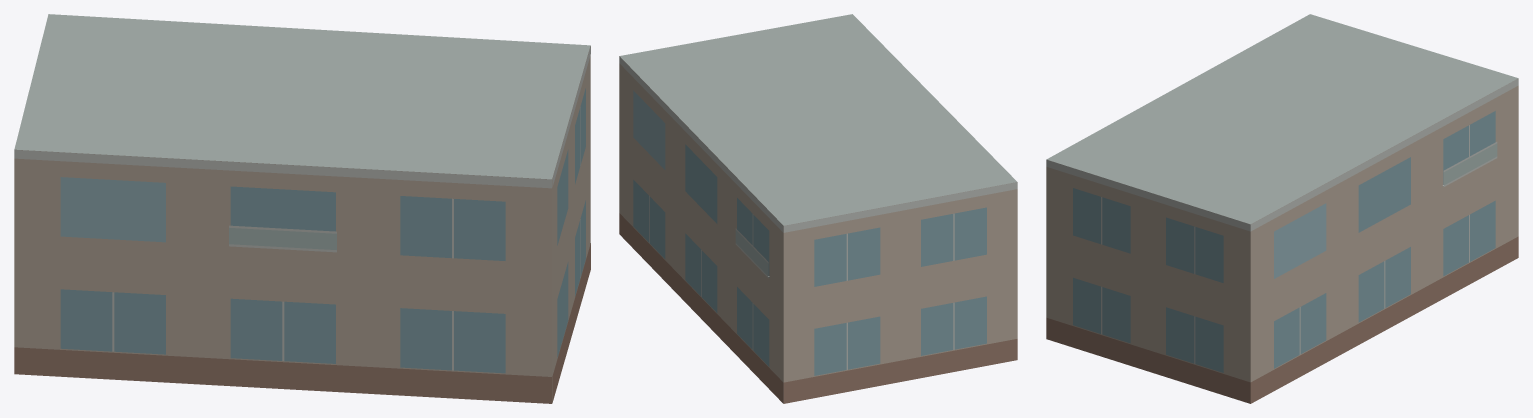
Rendered from survey-upis-32660288.glb.
3 views of the same model, side by side, from view 1: azimuth 30°, elevation 25°; view 2: azimuth 150°, elevation 25°; view 3: azimuth 270°, elevation 25° (orthographic). The views are drawn at different scales.
Parts seen in each view (by area): view 1: survey-upis-32660288.tmp; view 2: survey-upis-32660288.tmp; view 3: survey-upis-32660288.tmp.
Boxes of the visible parts, <box> form: survey-upis-32660288.tmp: <box>14,14,590,403</box>; survey-upis-32660288.tmp: <box>619,14,1017,403</box>; survey-upis-32660288.tmp: <box>1046,14,1518,403</box>.
Bounding box in the file's own units: 15.34 × 6.1 × 14.56.
